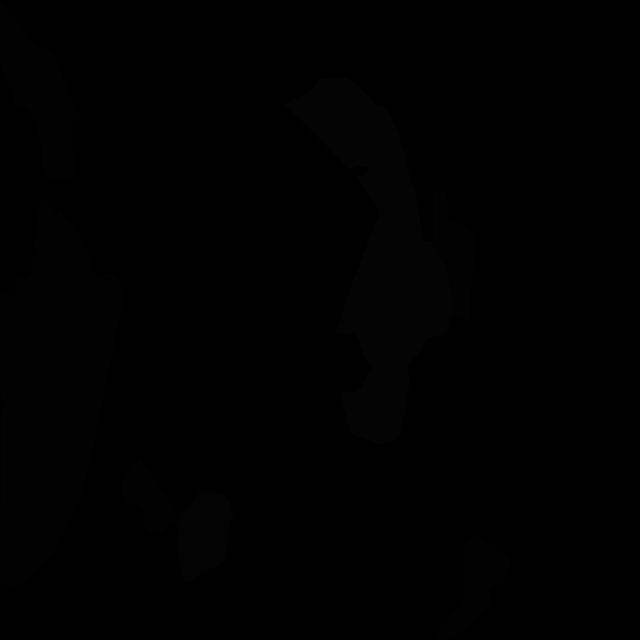cardboard: (0, 244, 125, 588), (0, 209, 82, 413), (0, 0, 82, 181), (438, 535, 511, 640), (432, 188, 477, 320), (121, 455, 179, 535), (34, 197, 56, 255)
metal: (177, 491, 234, 583)
soft_plastic: (284, 77, 452, 444)
